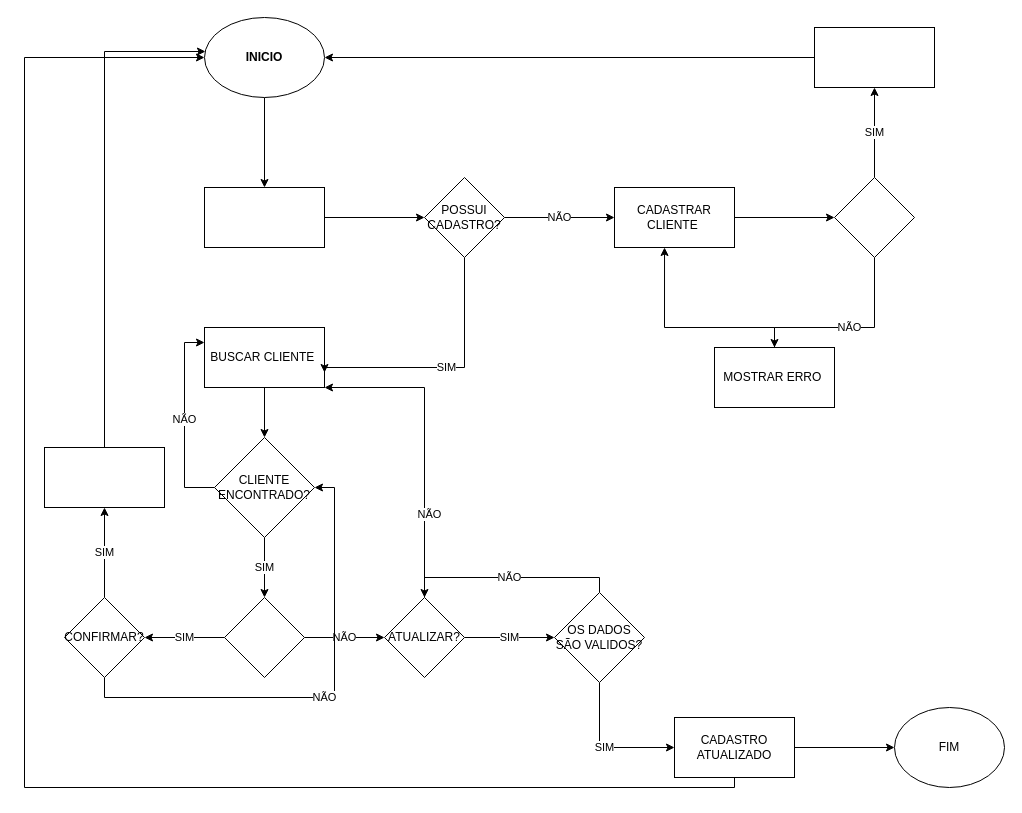
The diagram is 1022 pixels wide and 813 high, and some of its shapes have lost their labels. Here are the shapes that lost their labels. From the top down, the centre of each, then its label:
At point (874, 57): "CADASTRADO COM SUCESSO".
At point (264, 217): "LISTAR CLIENTE".
At point (874, 217): "É VALIDO?".
At point (104, 477): "APAGAR CLIENTE".
At point (264, 637): "APAGAR?".
